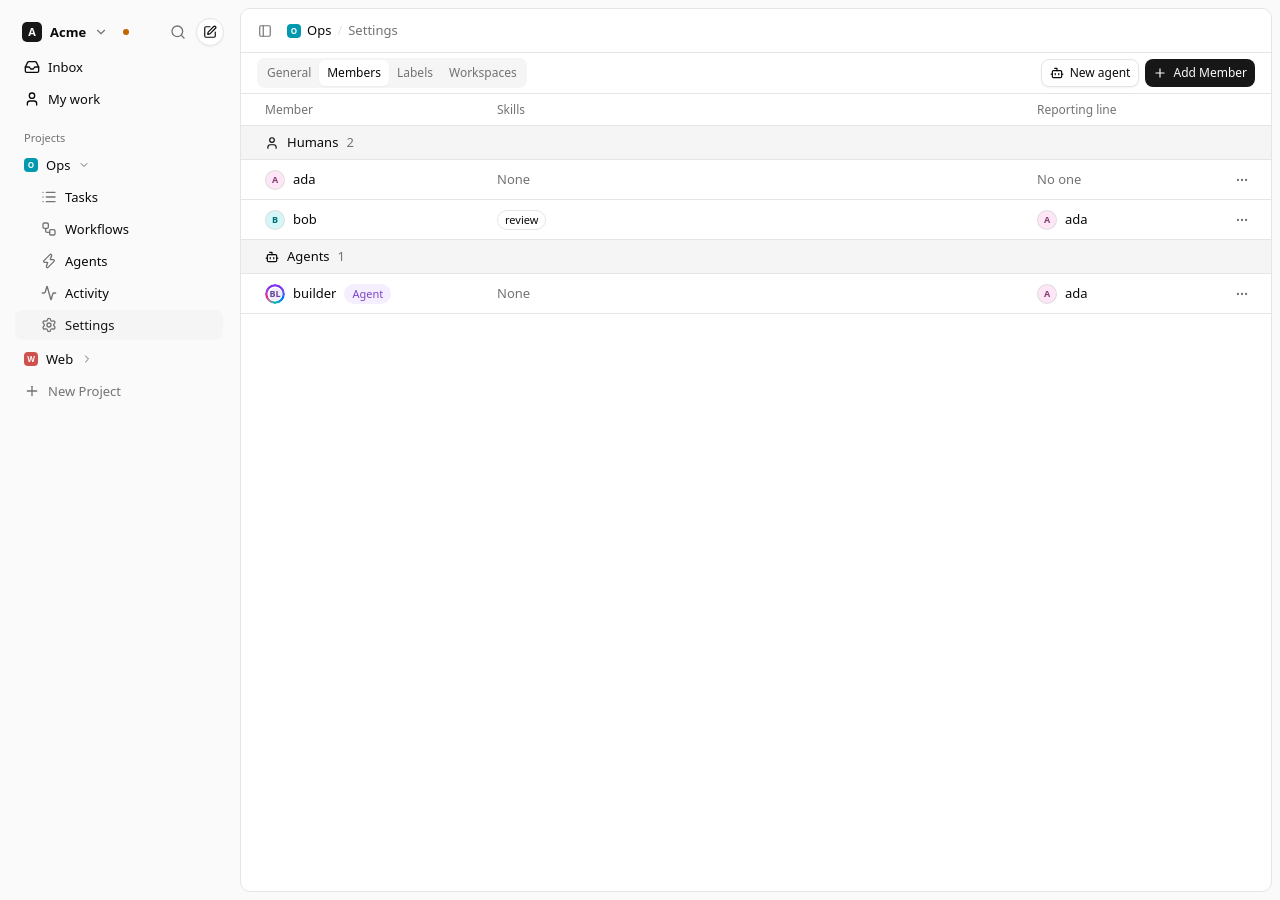
Test: a Project › Settings › Members › New agent makes an agent with this Project ticked
Click the button "New agent": (1090, 73) [1041,59,1139,87]
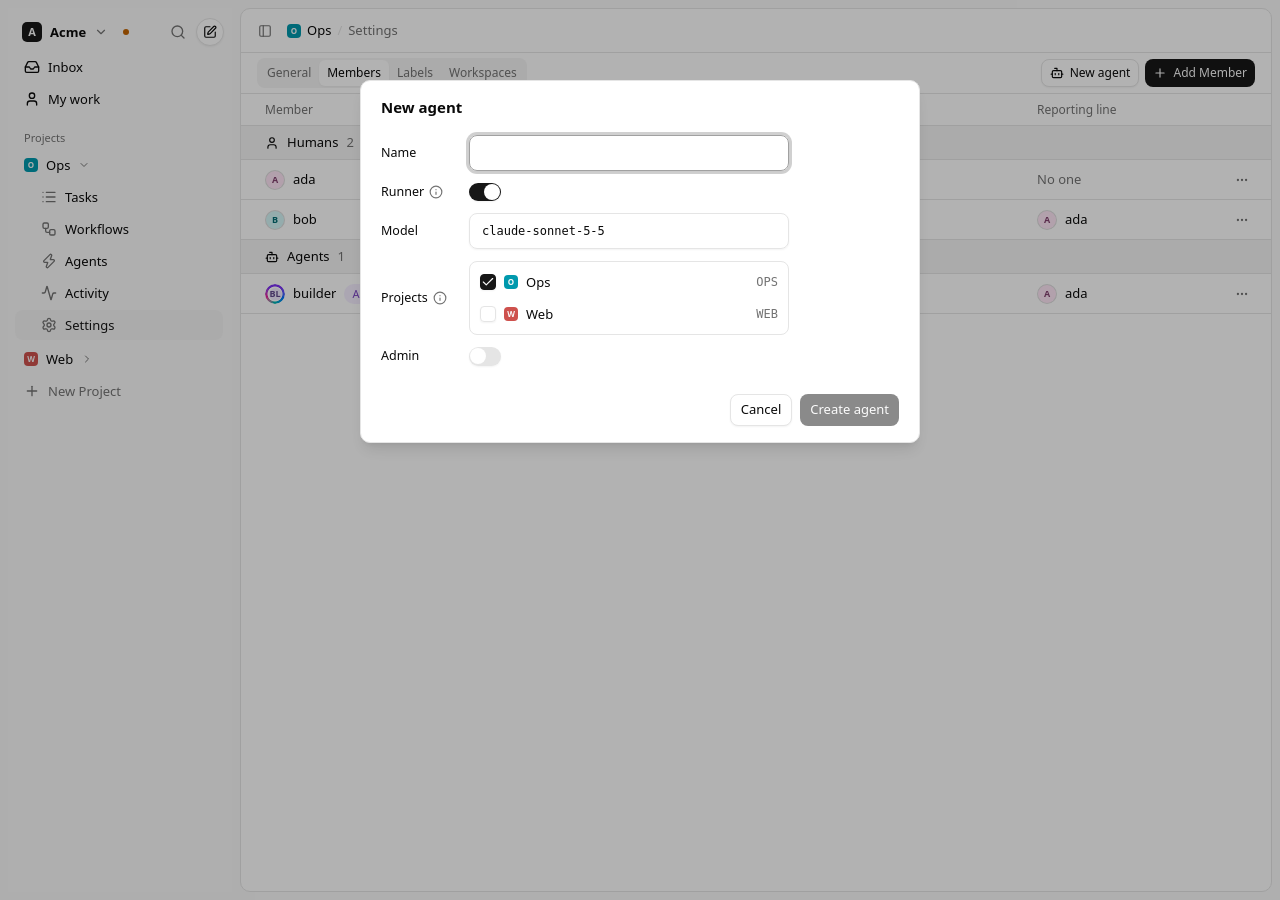
Expected: the checkbox named "Ops" is checked, [480,274,496,290]
Expected: the checkbox named "Web" is not checked, [480,306,496,322]
